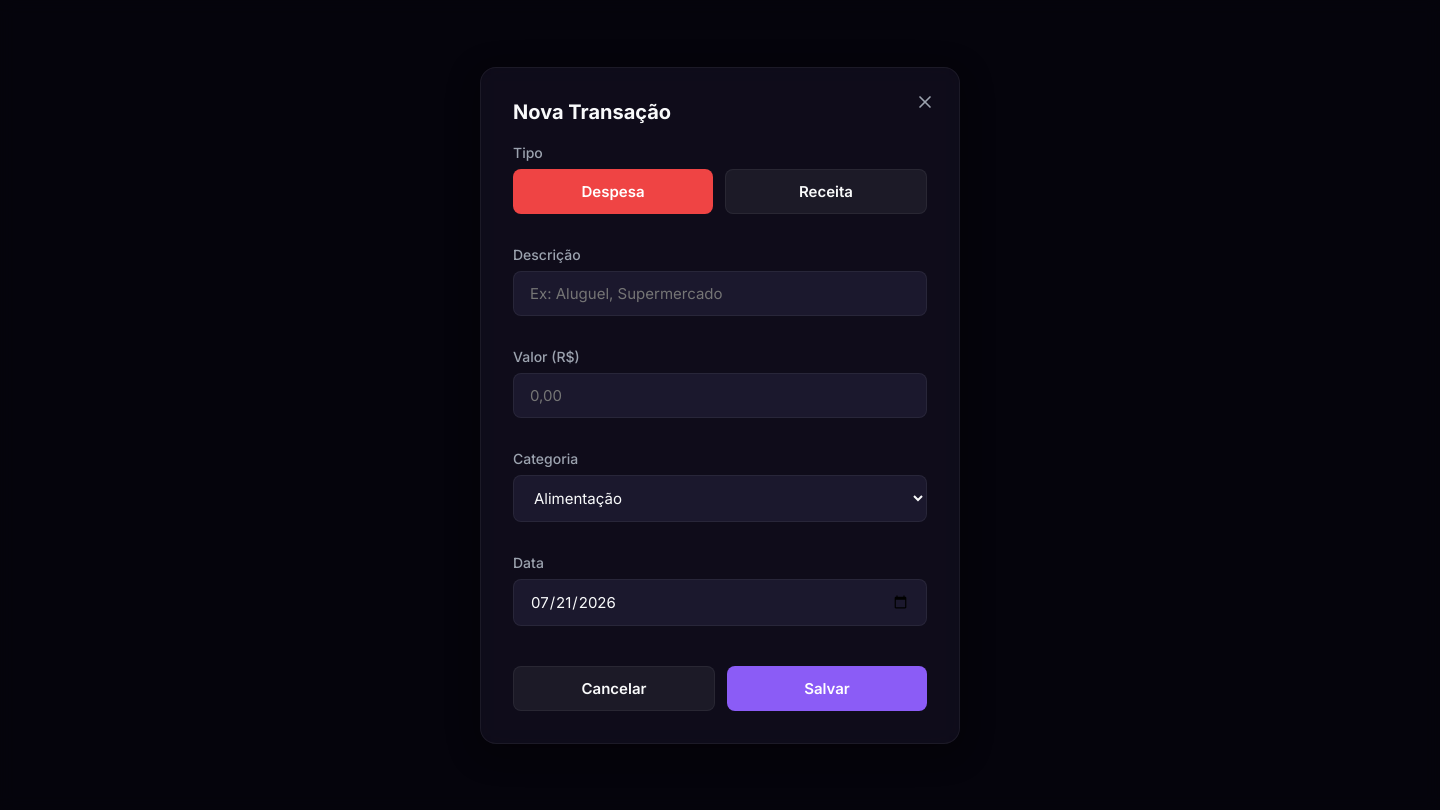
Scenario: TransactionModal Component › should switch categories list when toggling type
# Switch to income (Receita)
Step 1. Click the button "Receita" → {"x": 826, "y": 191}, box [725,168,927,214]
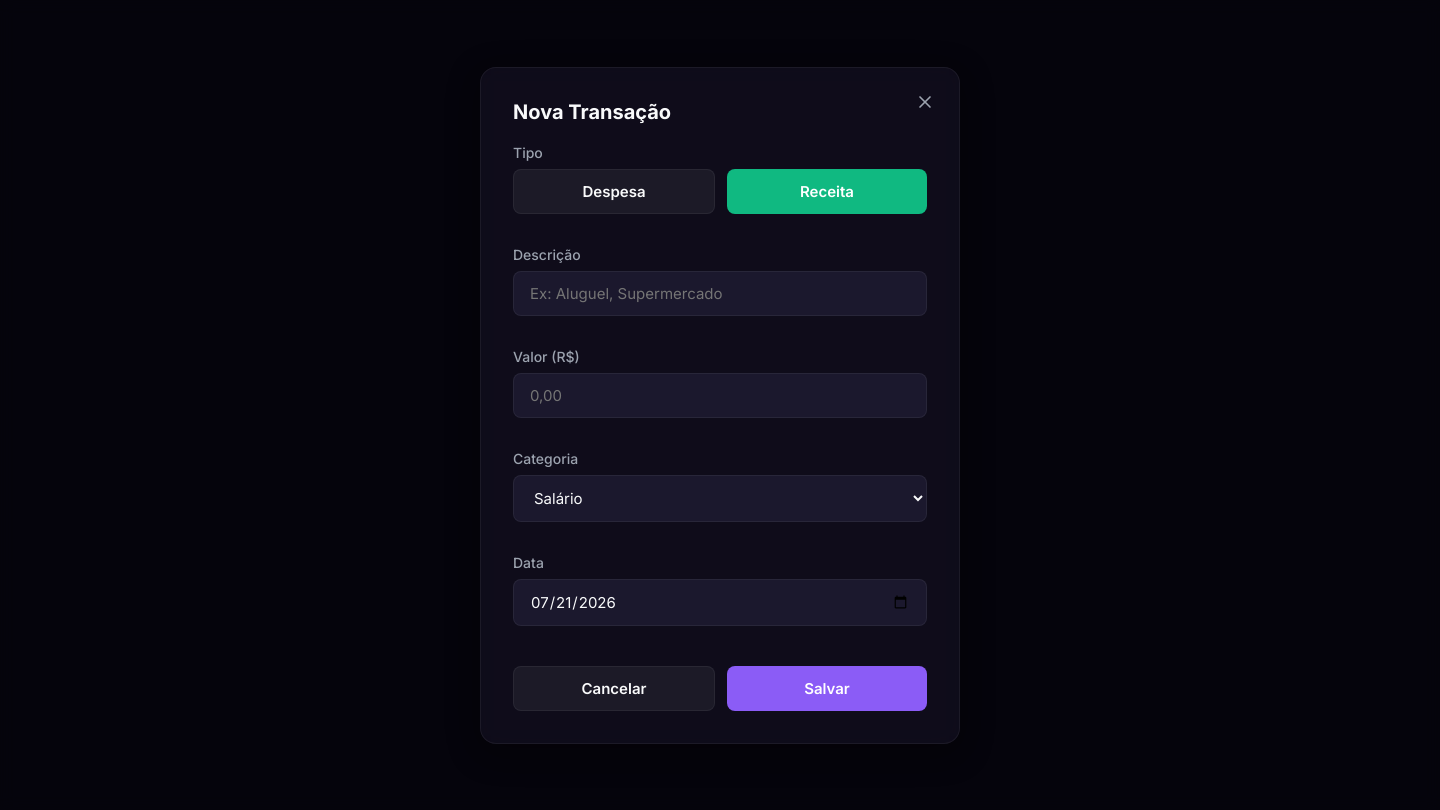
Expected: the dropdown labelled "Categoria" shows "Salário", [513,474,927,522]
